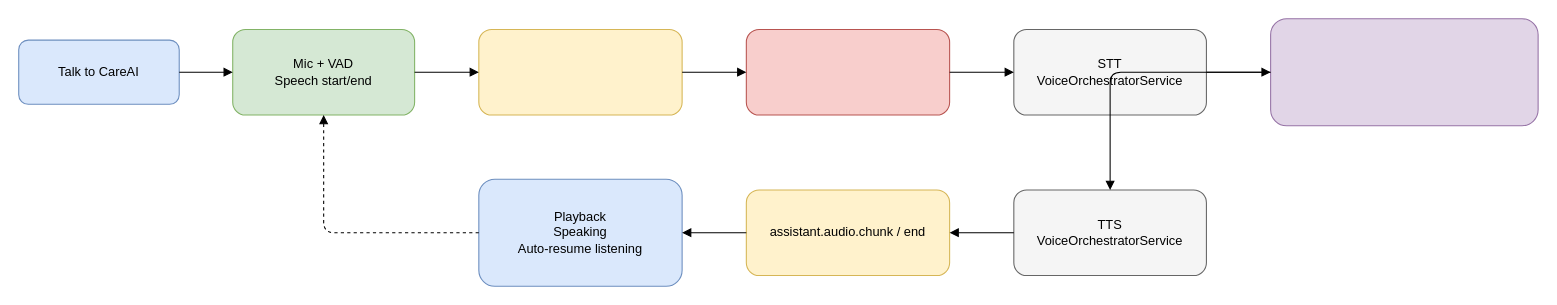
Image size: 1557x305. Some labels were removed from this diagram. Here are the shapes that lost their labels. From the top down, the centre of each, then its label:
pixel 580 71: WebSocket audio.chunk / audio.end
pixel 847 71: Patient Voice Handler Rebuild turn audio
pixel 1404 72: PatientPortalCareAiService Context + planner + deterministic workflow
